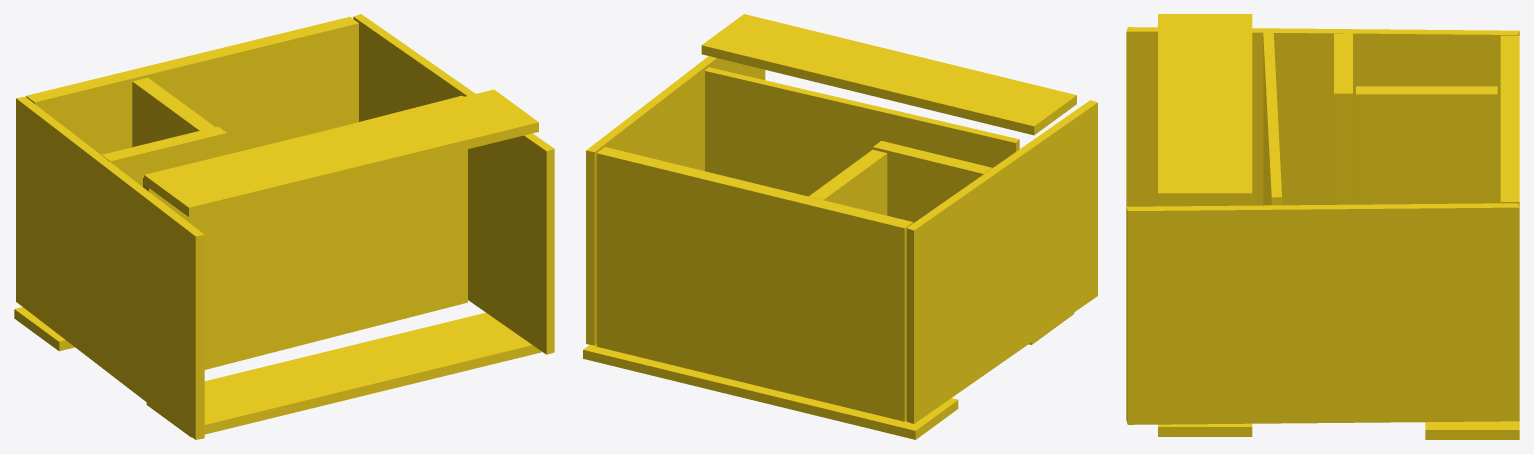
Rendered from tinker.obj.
The picture shows the model from 3 angles, left to right: view 1: azimuth 30°, elevation 25°; view 2: azimuth 150°, elevation 25°; view 3: azimuth 270°, elevation 25°; orthographic projection. The views are drawn at different scales.
Visible parts, largest first — view 1: obj_0; view 2: obj_0; view 3: obj_0.
Part boxes in pixels (box(x1,y1,x2,y2)): obj_0: box(14, 14, 554, 439); obj_0: box(583, 14, 1097, 439); obj_0: box(1126, 14, 1519, 439).
Bounding box in the file's own units: 278 × 174 × 250.
